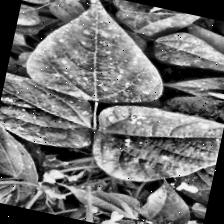Bean Rust: (25, 0, 175, 114), (86, 98, 224, 196), (0, 66, 101, 153), (147, 22, 224, 78), (165, 64, 224, 106)
